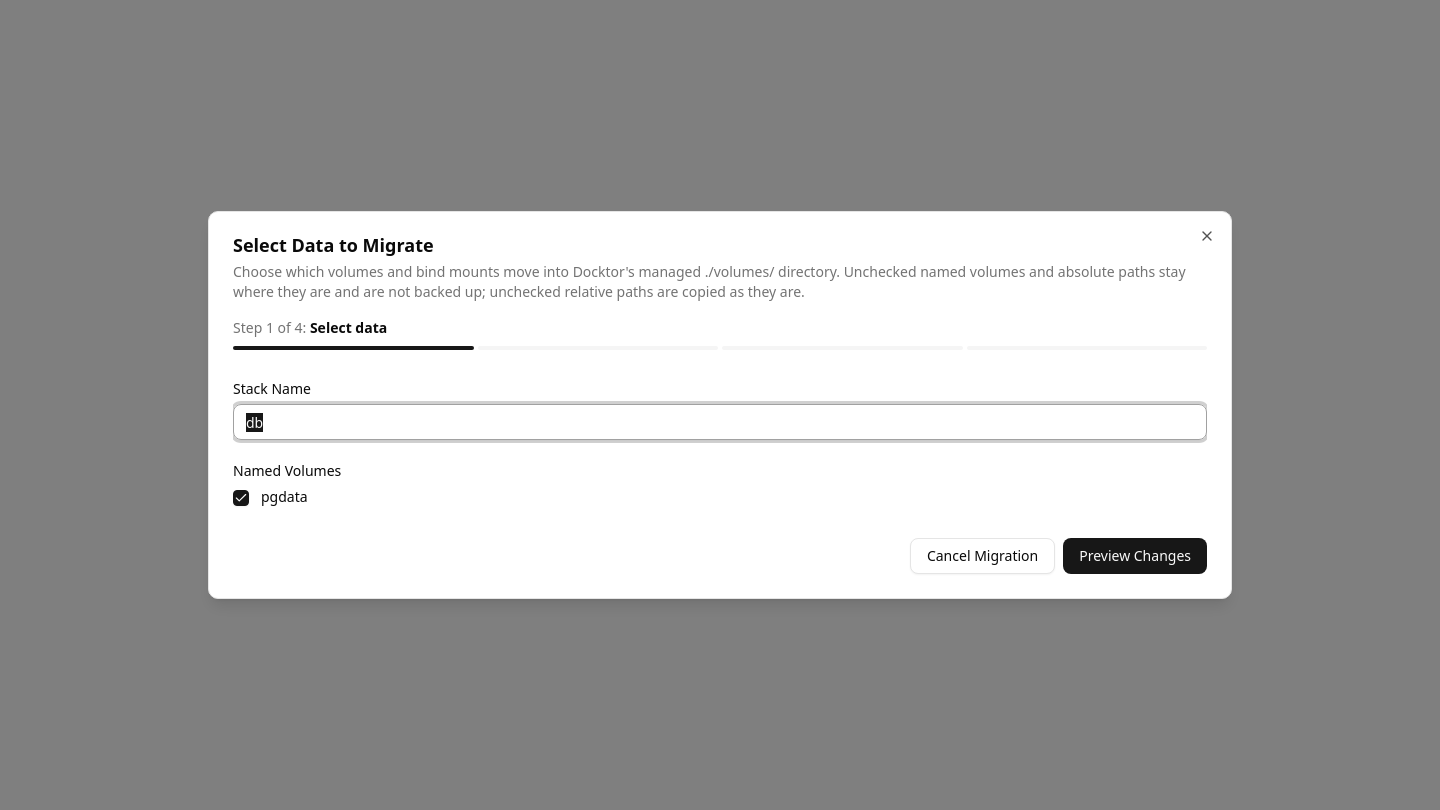
MigrationWizard › shows the empty state with +0 / -0 counters when there are no hunks
Click the button "Preview Changes" at point(1135, 556), box [1063, 538, 1207, 574]
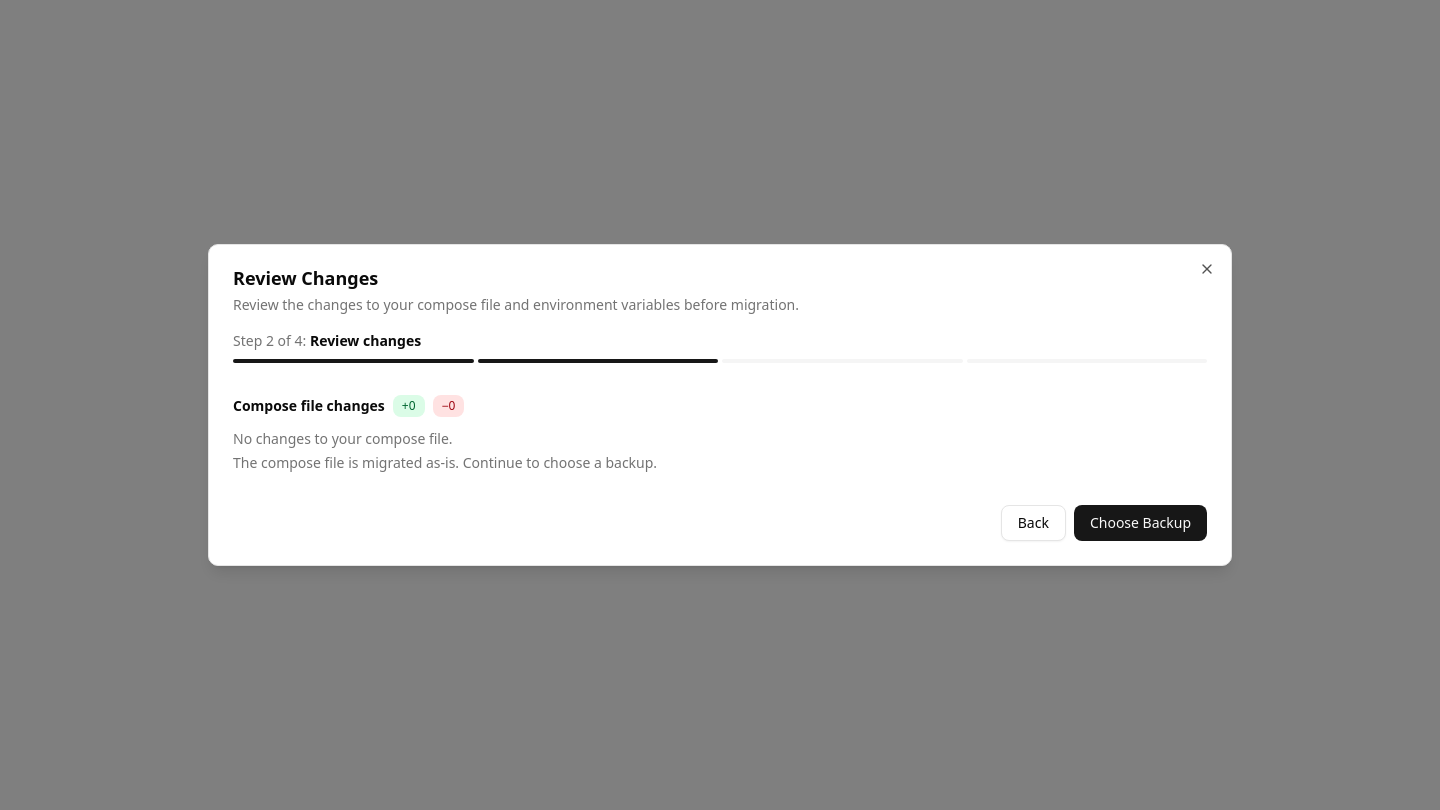
Expected: the text "No changes to your compose file." is shown, [233, 429, 453, 448]
Expected: the text "The compose file is migrated as-is. Continue to choose a backup." is shown, [233, 453, 657, 472]
Expected: the text "+0" is shown, [393, 395, 425, 417]
